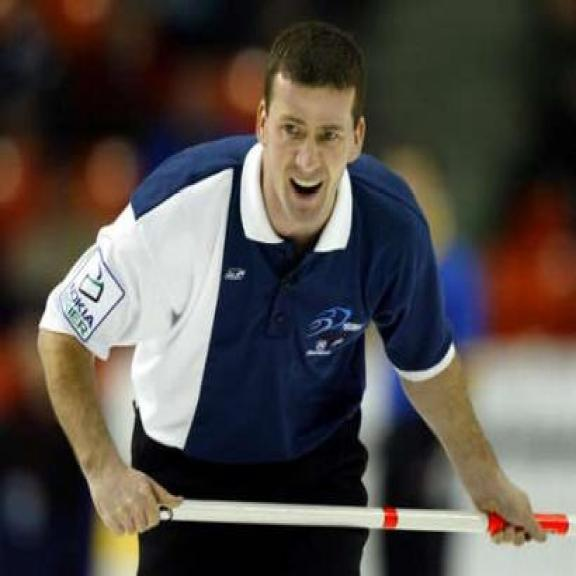face: (253, 76, 370, 225)
